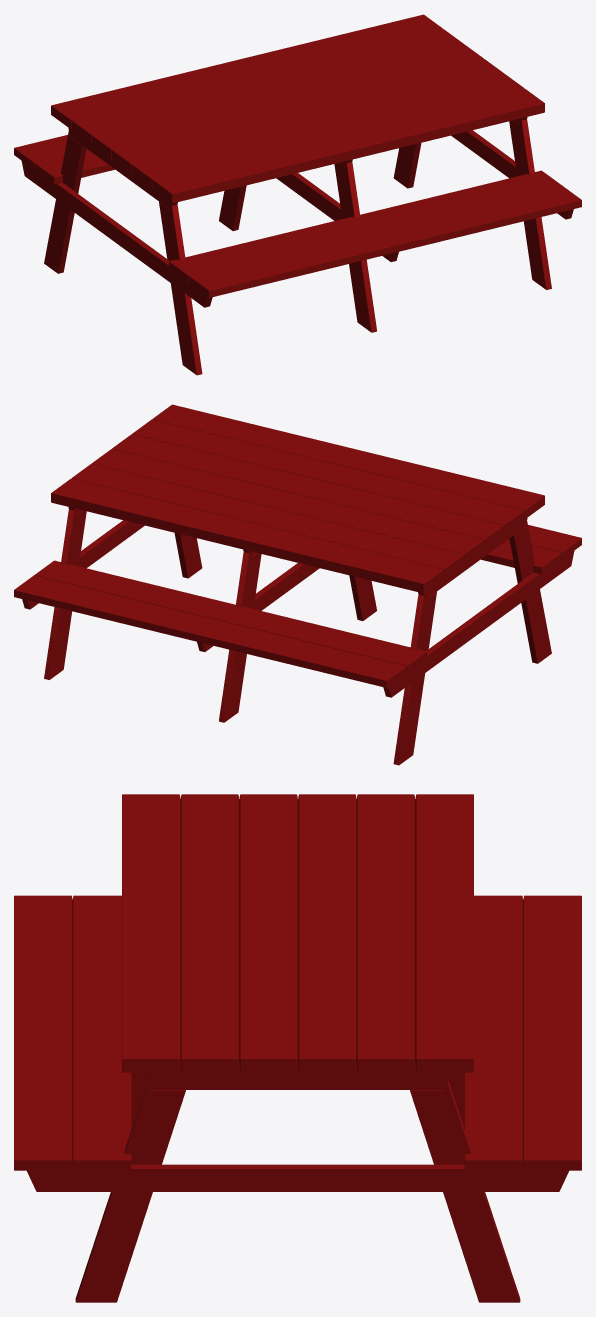
File: wood_bench.obj
3 views of the same model, one above another, from view 1: azimuth 30°, elevation 25°; view 2: azimuth 150°, elevation 25°; view 3: azimuth 270°, elevation 25° (orthographic). The views are drawn at different scales.
Visible parts, largest first — view 1: Rectangle073; view 2: Rectangle073; view 3: Rectangle073.
Part boxes in pixels (bbox=[...]): Rectangle073: bbox=[14, 14, 581, 375]; Rectangle073: bbox=[14, 404, 581, 765]; Rectangle073: bbox=[14, 794, 581, 1302].
Bounding box in the file's own units: 1600 × 706 × 1452.
